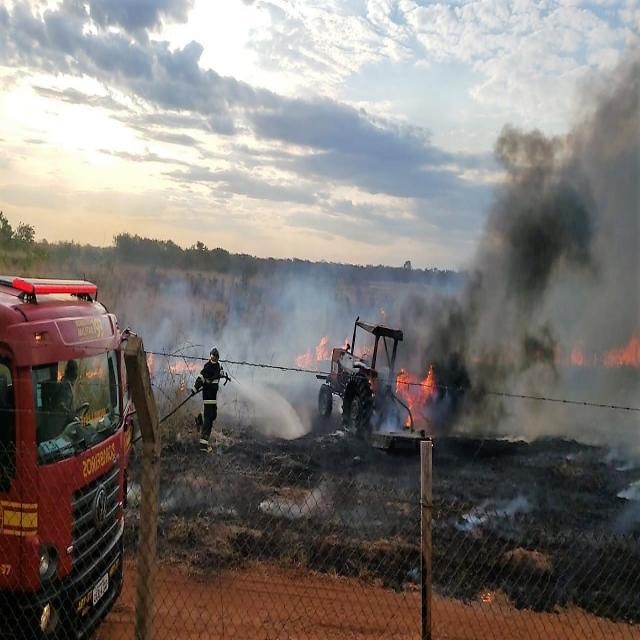Fire: (556, 333, 636, 367), (292, 327, 350, 372), (398, 368, 432, 426), (146, 351, 194, 388)
